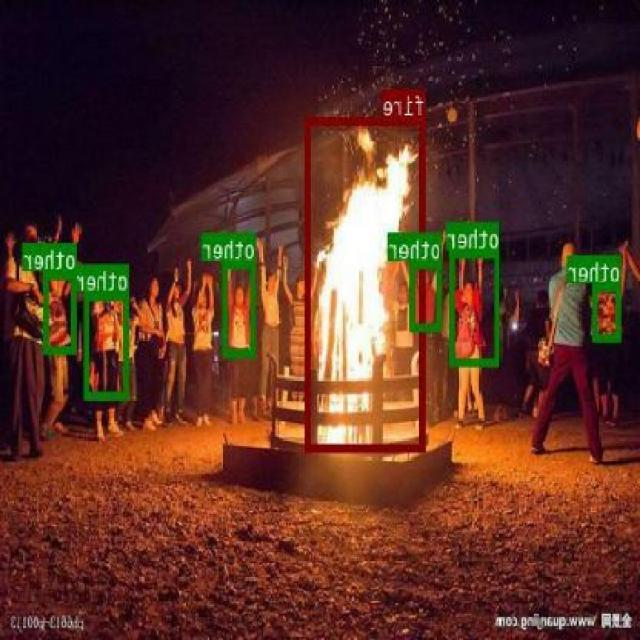Fire: (307, 117, 427, 451)
